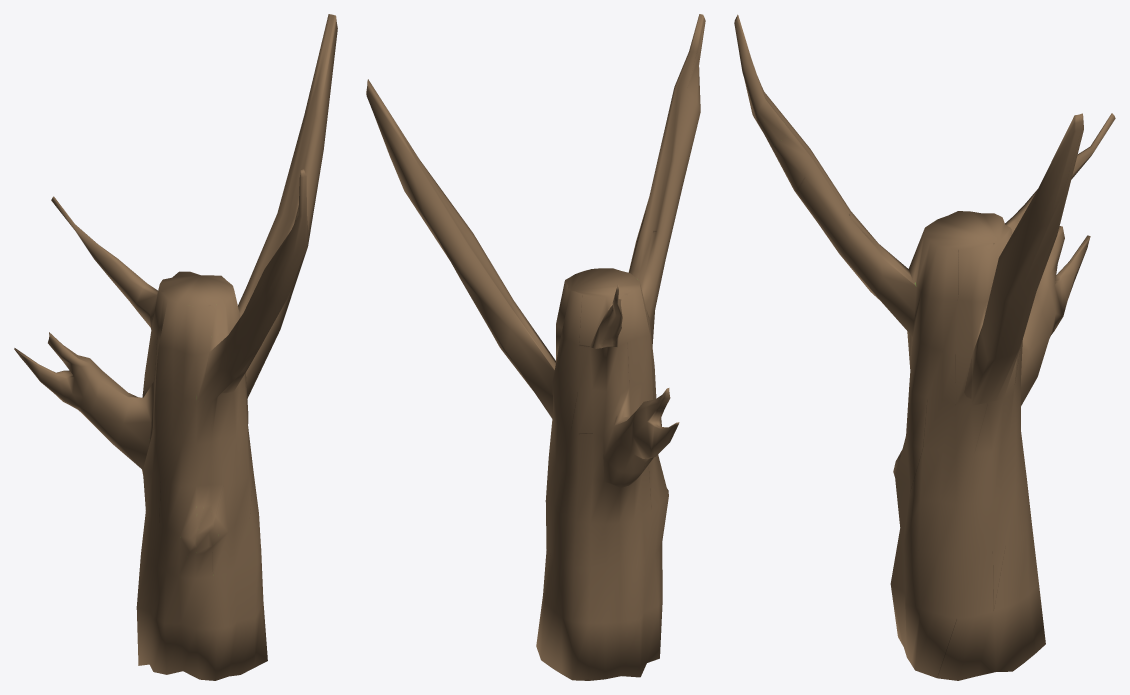
The model's file is Tree_dead.fbx.
The picture shows the model from 3 angles, left to right: view 1: azimuth 30°, elevation 25°; view 2: azimuth 150°, elevation 25°; view 3: azimuth 270°, elevation 25°; orthographic projection. The views are drawn at different scales.
Visible parts, largest first — view 1: Tree_Dead; view 2: Tree_Dead; view 3: Tree_Dead.
Boxes of the visible parts, box(x1,y1,x2,y2) form: Tree_Dead: box(14, 14, 337, 680); Tree_Dead: box(366, 14, 705, 680); Tree_Dead: box(734, 14, 1115, 680).
Bounding box in the file's own units: 1008 × 1715 × 928.
